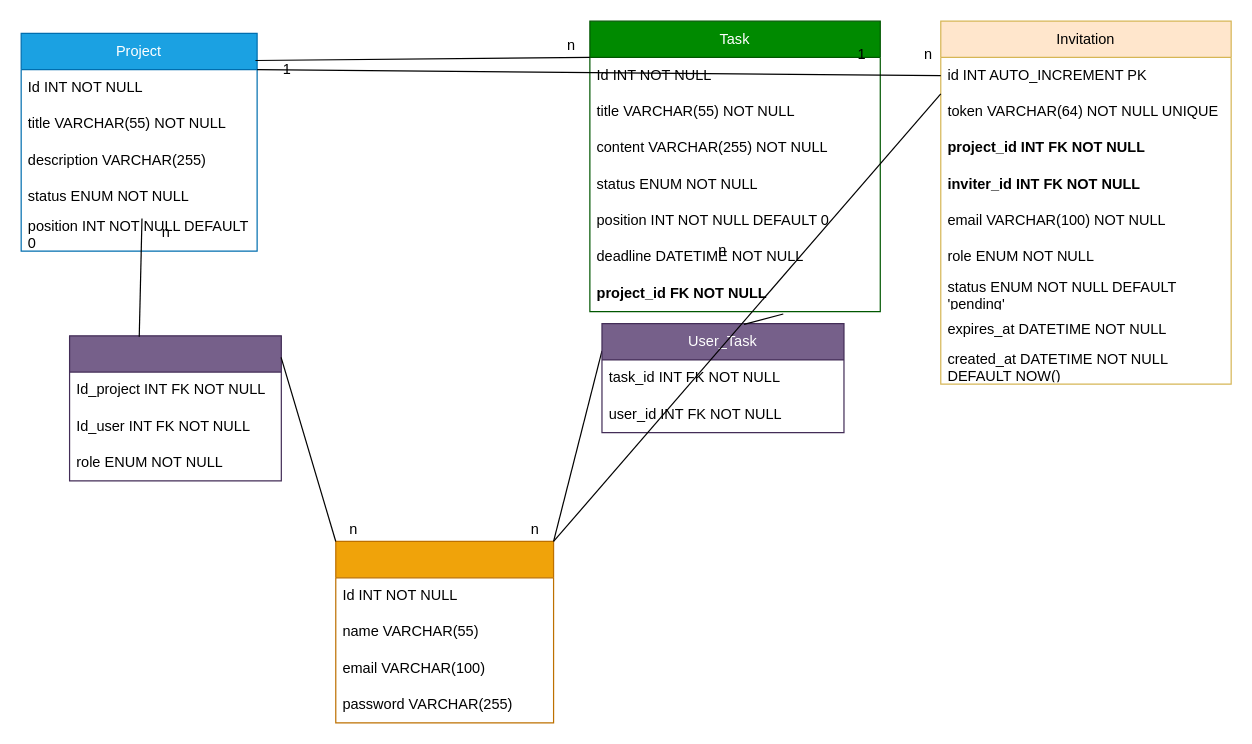
This 1252x744 diagram has some shape labels left out. The shapes that lost their labels are listed below. From the top down, each one's box as (x1, y1, x2, y2) in pixels, then its label:
(68, 335, 281, 481): User_Project
(335, 540, 554, 723): User
